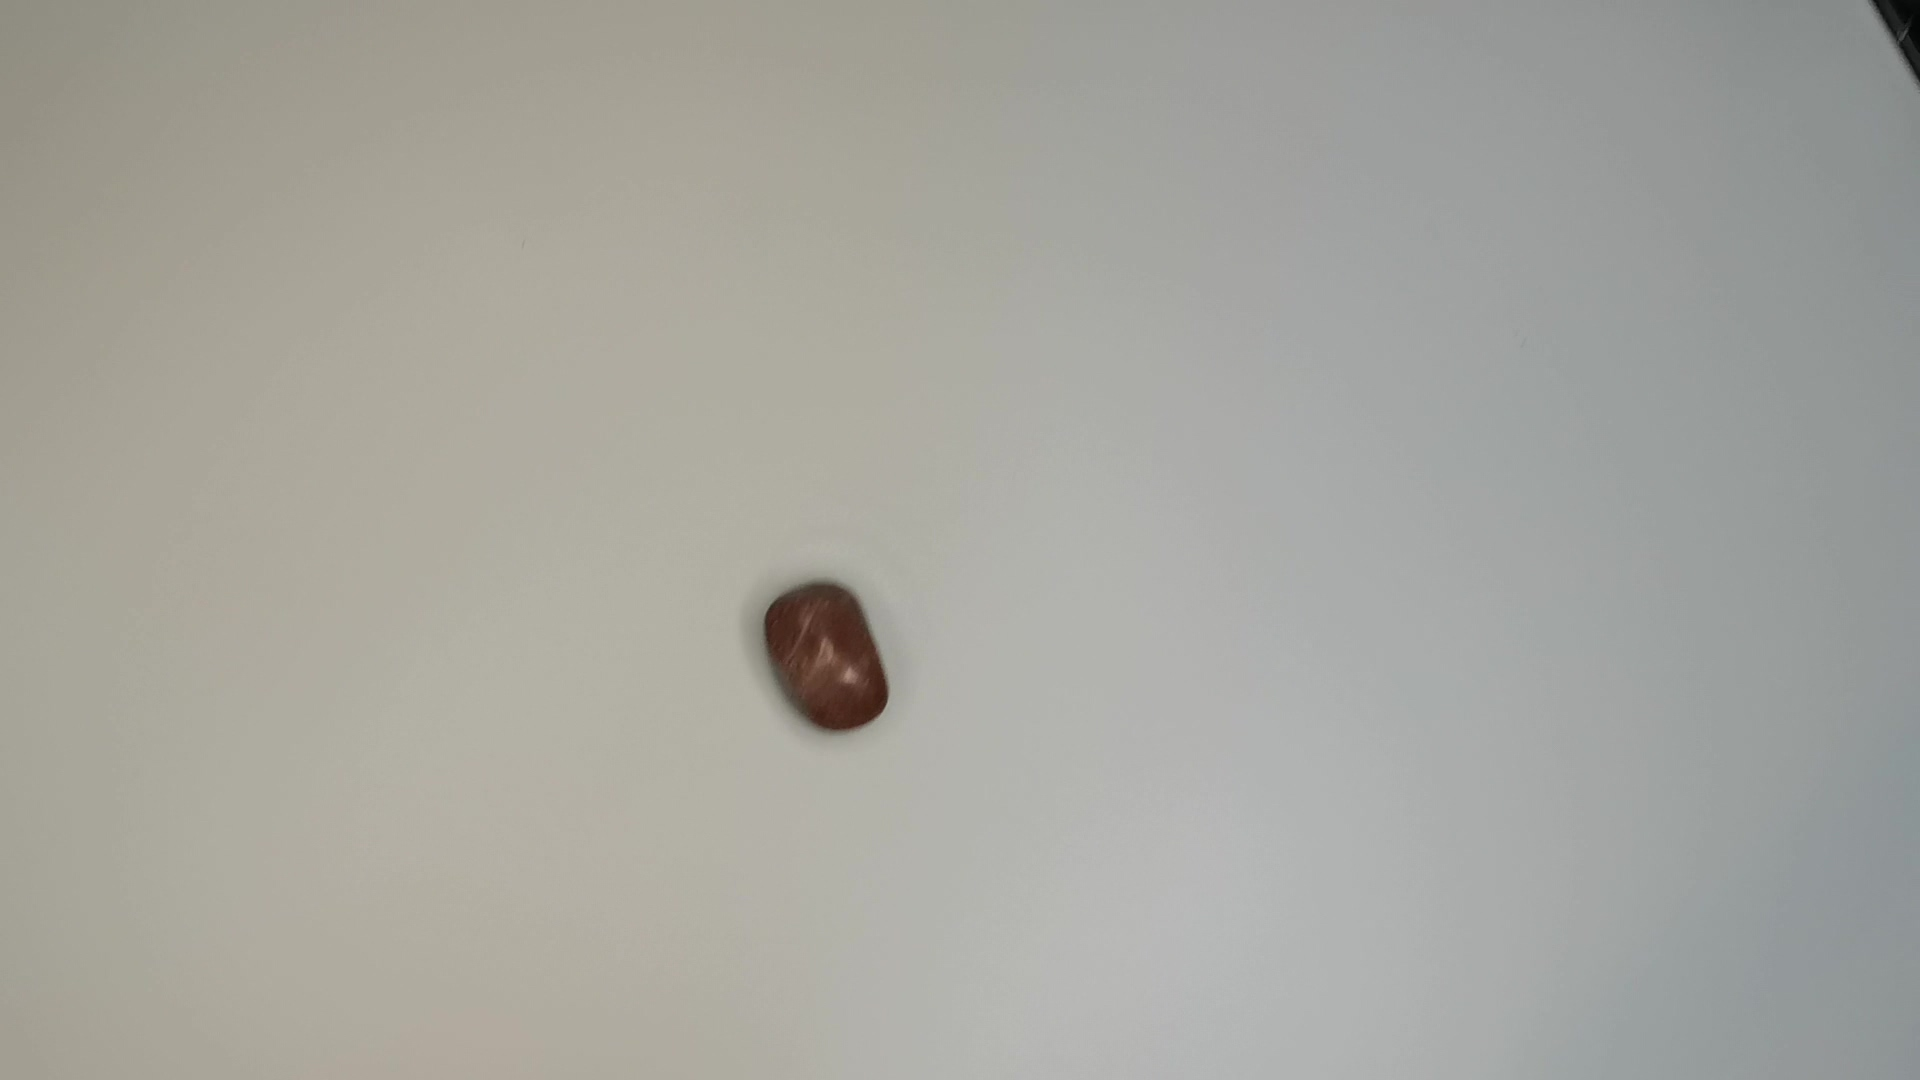ceramic: (758, 579, 903, 732)
